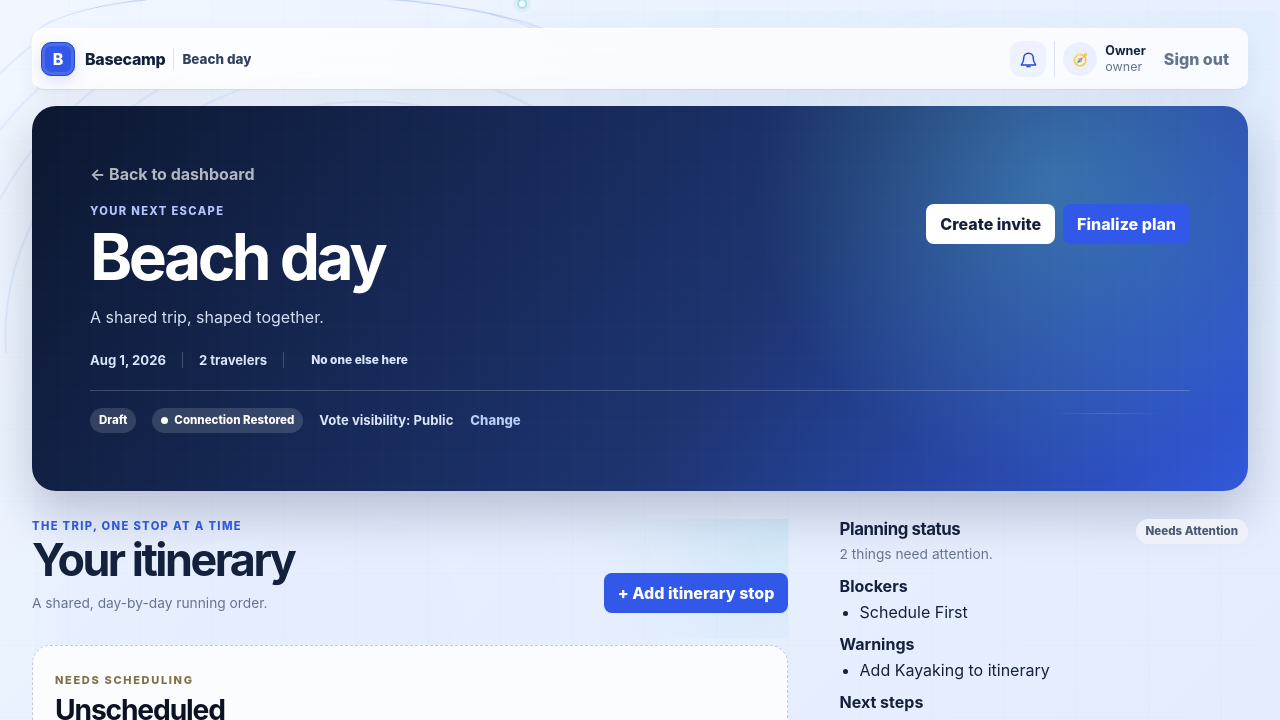
it: Phase 1B.5 planning UI › preserves authoritative load, connection status, owner role, and invite creation
The width and height of the screenshot is (1280, 720).
expect the heading "Beach day" is shown: met, box [90,225,408,289]
expect the text "owner" is shown: met, box [1105,59,1146,75]
Click the button "Create invite" at (991, 224), box [926,204,1055,244]
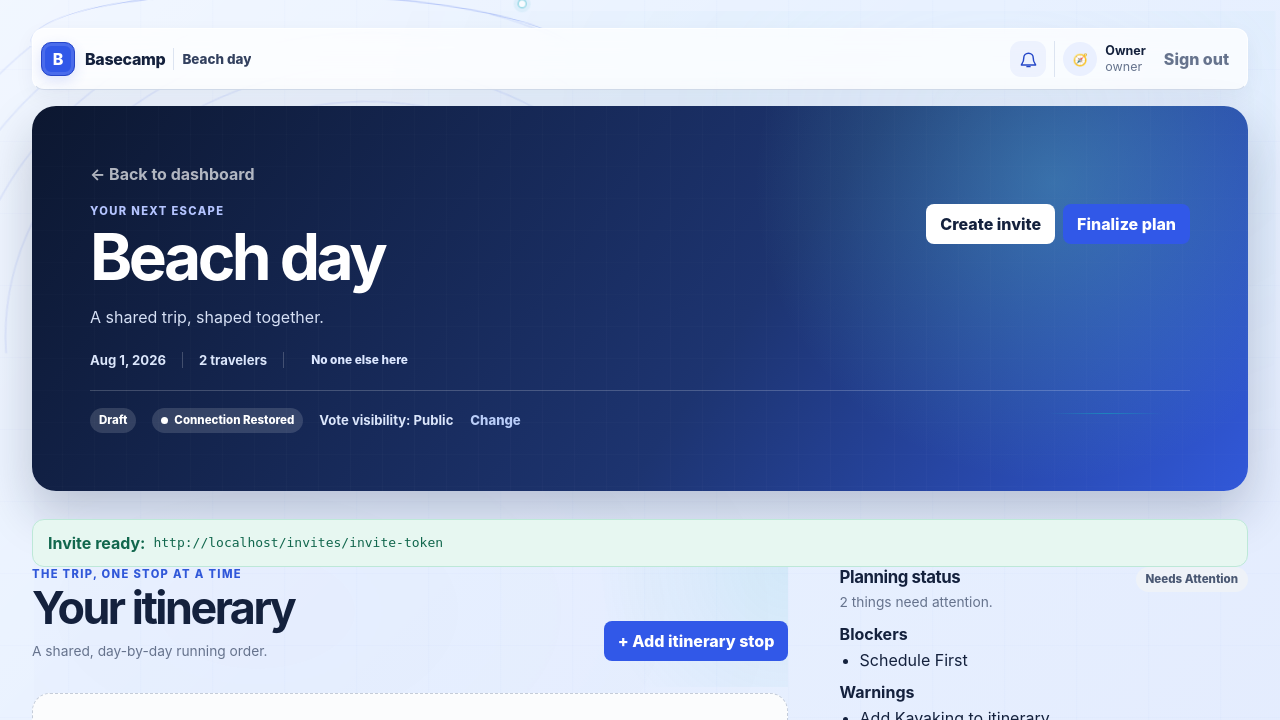
expect the text "http://localhost/invites/invite-token" is shown: met, box [154,535,443,550]
